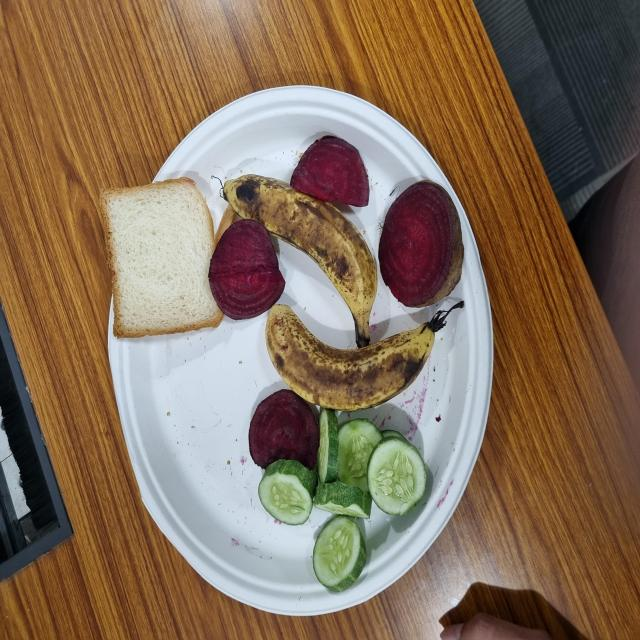banana: (223, 174, 377, 346), (266, 304, 434, 410)
